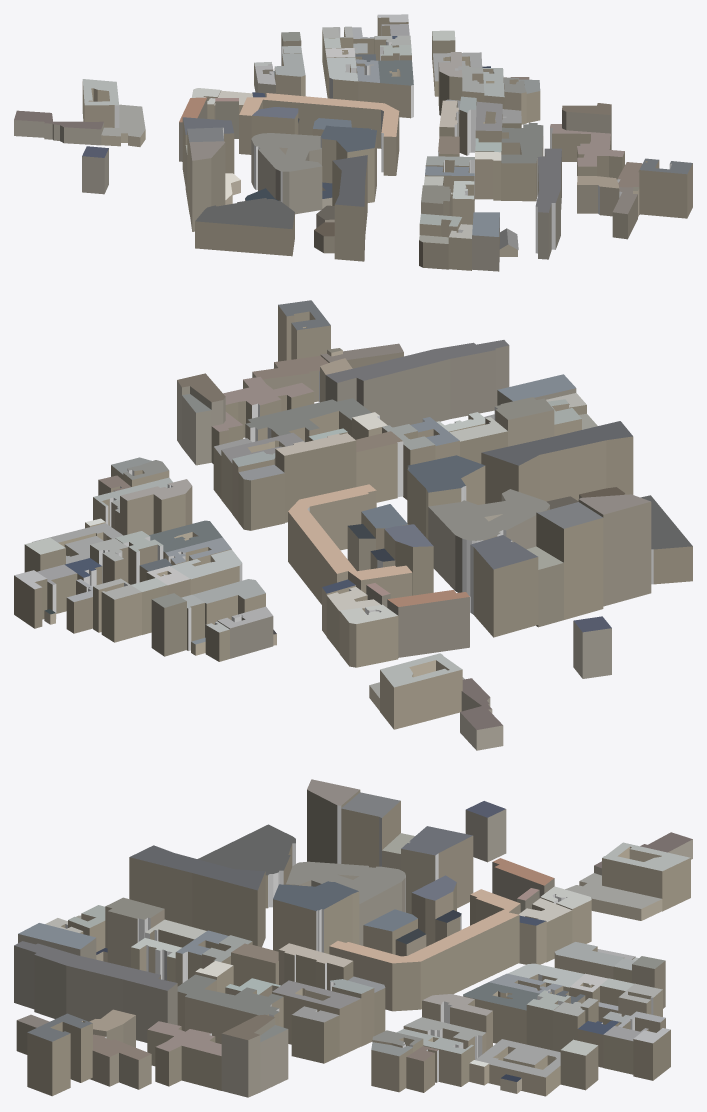
3 views of the same model, one above another, from view 1: azimuth 30°, elevation 25°; view 2: azimuth 150°, elevation 25°; view 3: azimuth 270°, elevation 25° (orthographic). The views are drawn at different scales.
Visible parts, largest first — view 1: tuile; view 2: tuile; view 3: tuile.
Part boxes in pixels (x1,y1,x2,y2): tuile: [14, 14, 692, 271]; tuile: [14, 300, 692, 750]; tuile: [14, 779, 692, 1097].
Size of the model in its own units: 256 by 42.16 by 282.
